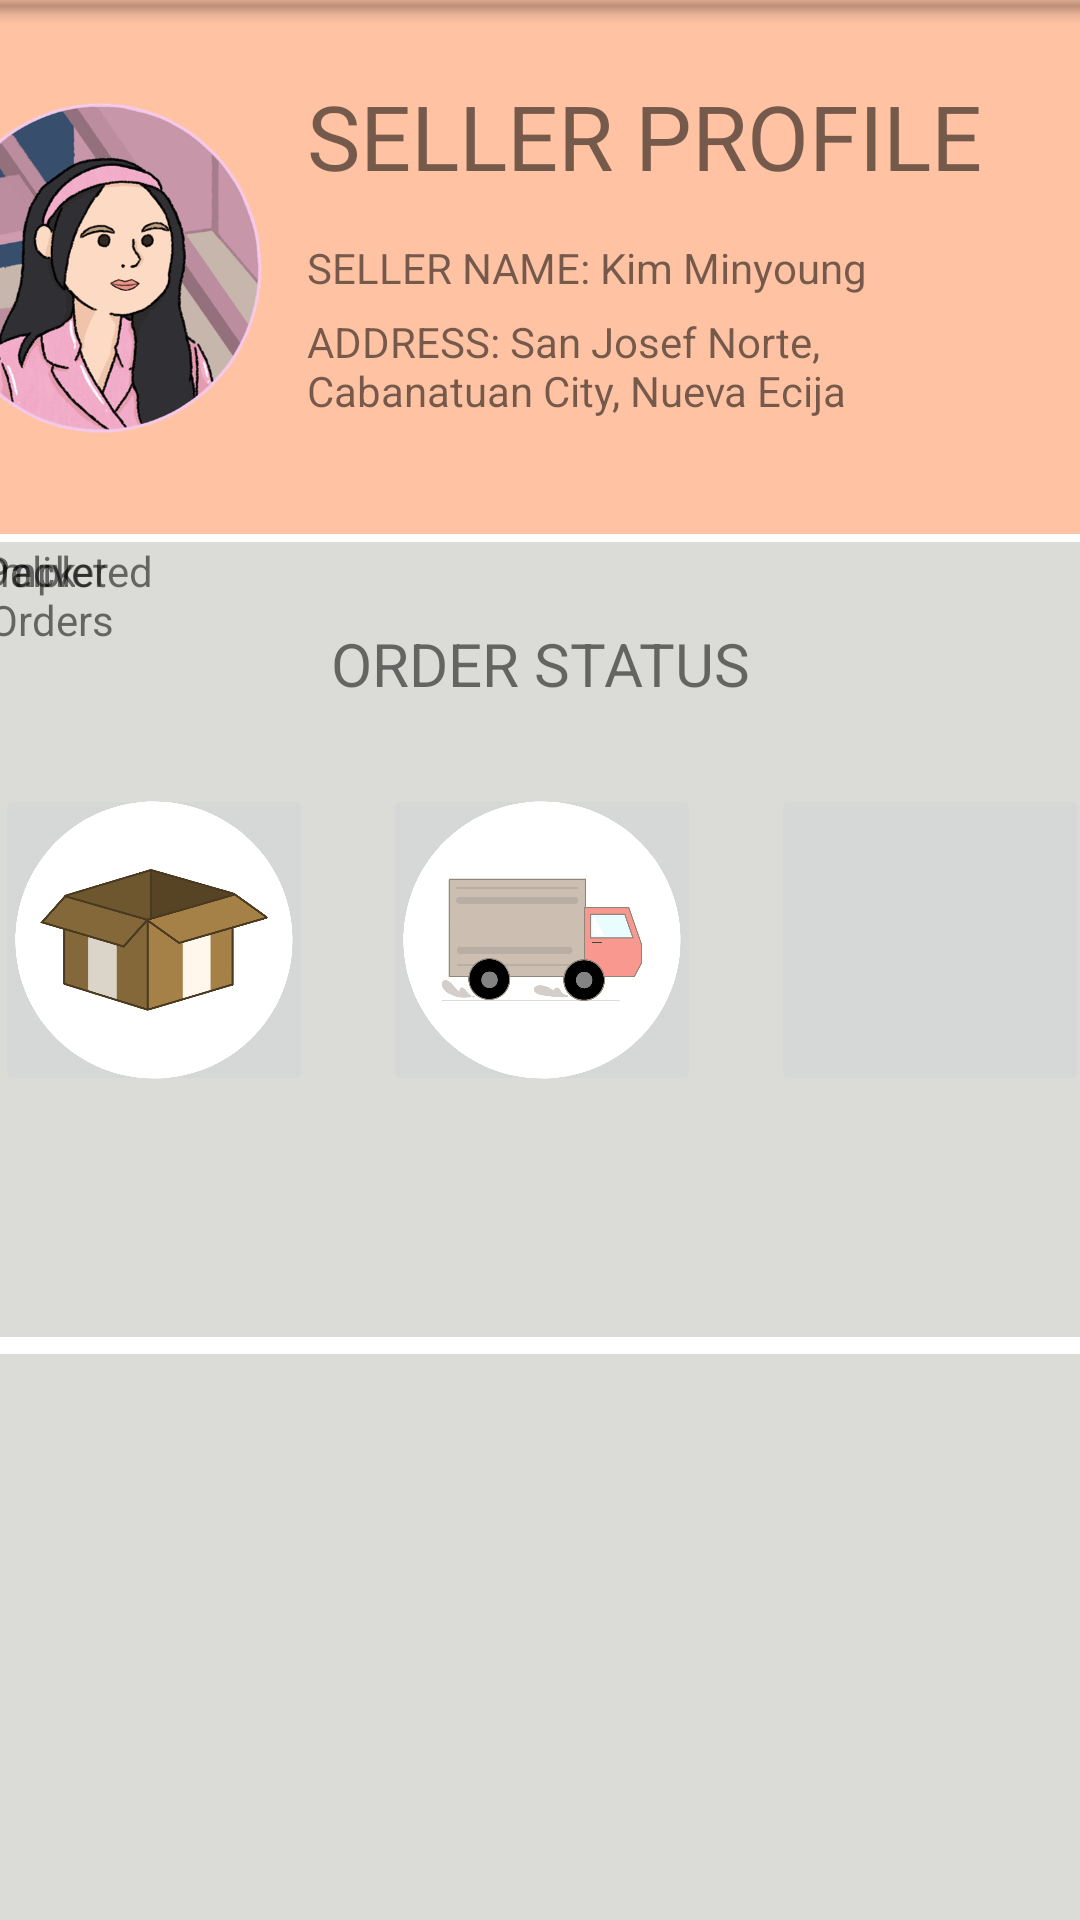

Point at icon controls on the screen. Image size 1080*1920, points as point (x, y).
seller deliver: point (542, 940)
seller pack: point (154, 940)
